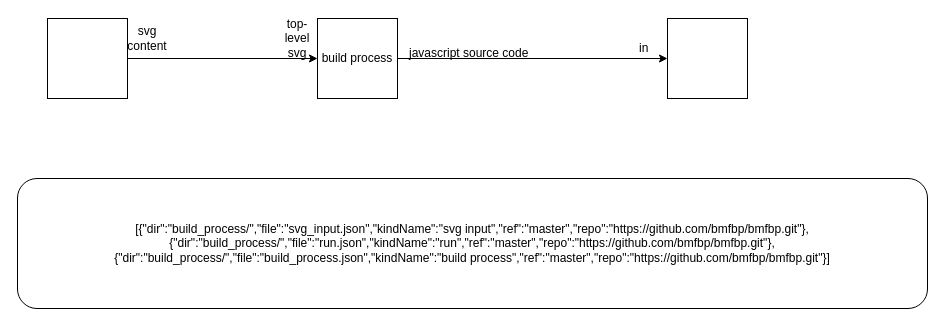
Some shapes in this 945 by 326 pixel diagram are drawn without their labels. Here are the shapes that lost their labels. From the top down, the centre of each, then its label:
point (87, 58): svg input
point (707, 58): run
